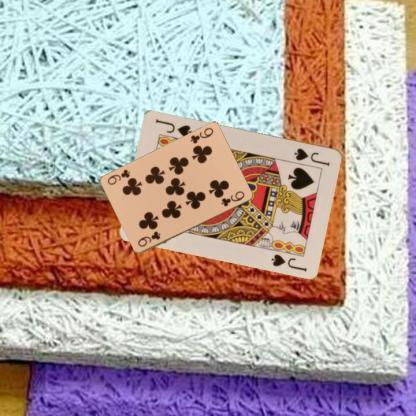9c: (135, 228, 162, 249), (188, 125, 214, 145)
Js: (291, 145, 332, 168)
